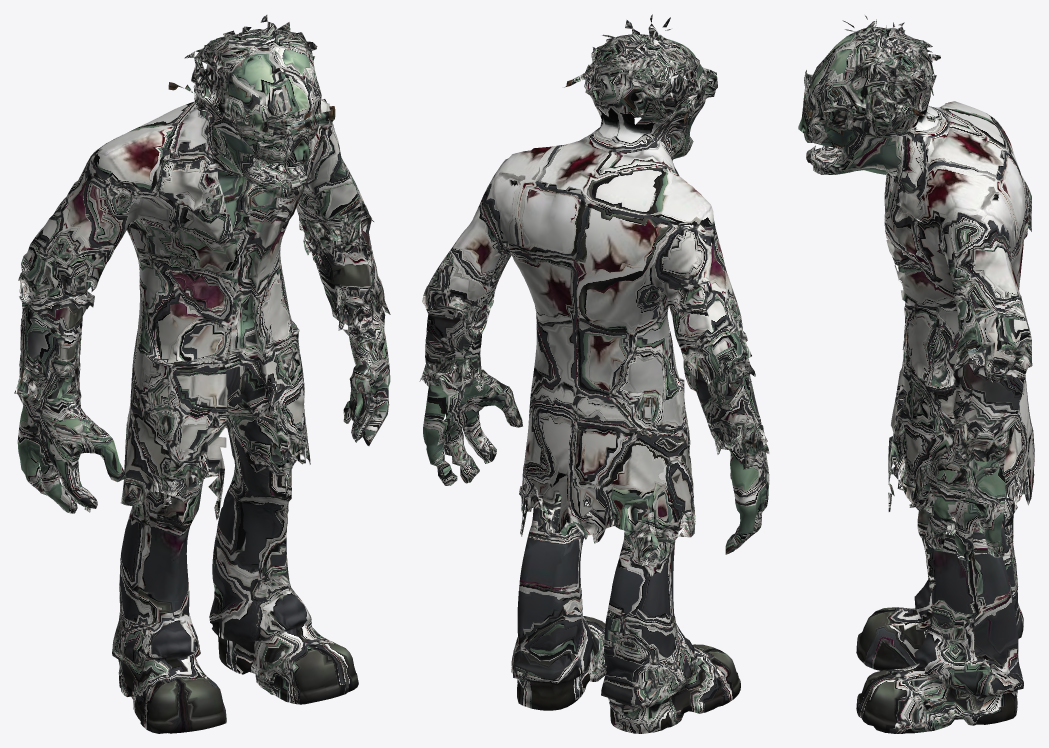
The model's file is Meshy_AI__0626205329_optimized.glb.
3 renders of one model, left to right at view 1: azimuth 30°, elevation 25°; view 2: azimuth 150°, elevation 25°; view 3: azimuth 270°, elevation 25°, orthographic. The views are drawn at different scales.
Parts seen in each view (by area): view 1: optimized-zombie; view 2: optimized-zombie; view 3: optimized-zombie.
Boxes of the visible parts, <box> form: optimized-zombie: <box>14,15,390,733</box>; optimized-zombie: <box>419,14,769,733</box>; optimized-zombie: <box>798,15,1034,733</box>.
Size of the model in its own units: 1.05 by 1.9 by 0.6095.
1 material, 1 textured.
